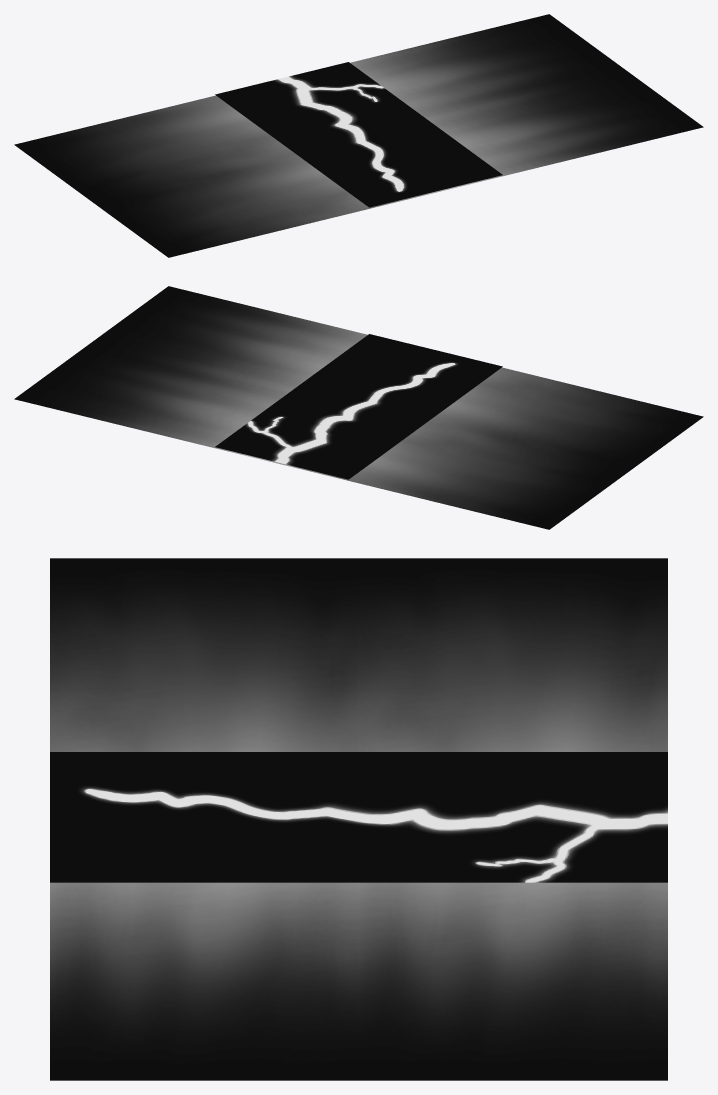
Rendered from lightning4.glb.
3 views of the same model, one above another, from view 1: azimuth 30°, elevation 25°; view 2: azimuth 150°, elevation 25°; view 3: azimuth 270°, elevation 25° (orthographic). The views are drawn at different scales.
Visible parts, largest first — view 1: gfx_lightningGlow_a.jpg__, gfx_lightning_a.jpg__; view 2: gfx_lightningGlow_a.jpg__, gfx_lightning_a.jpg__; view 3: gfx_lightningGlow_a.jpg__, gfx_lightning_a.jpg__.
Part boxes in pixels (x1,y1,x2,y2): gfx_lightningGlow_a.jpg__: (14, 14, 703, 257); gfx_lightning_a.jpg__: (215, 62, 502, 207); gfx_lightningGlow_a.jpg__: (14, 286, 703, 529); gfx_lightning_a.jpg__: (215, 334, 502, 479); gfx_lightningGlow_a.jpg__: (50, 558, 667, 1080); gfx_lightning_a.jpg__: (50, 752, 667, 882).
Size of the model in its own units: 4 by 0.00826 by 2.
Materials: 2 (2 with a texture image).
